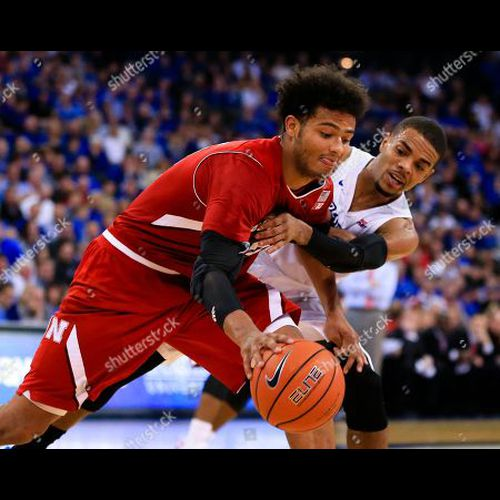ball: (250, 341, 341, 429)
